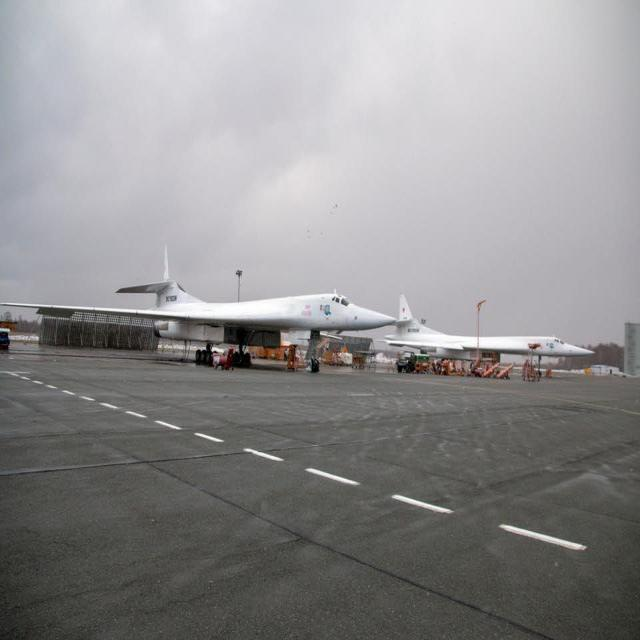MIL_Plane: (1, 244, 397, 373), (373, 291, 597, 379)
